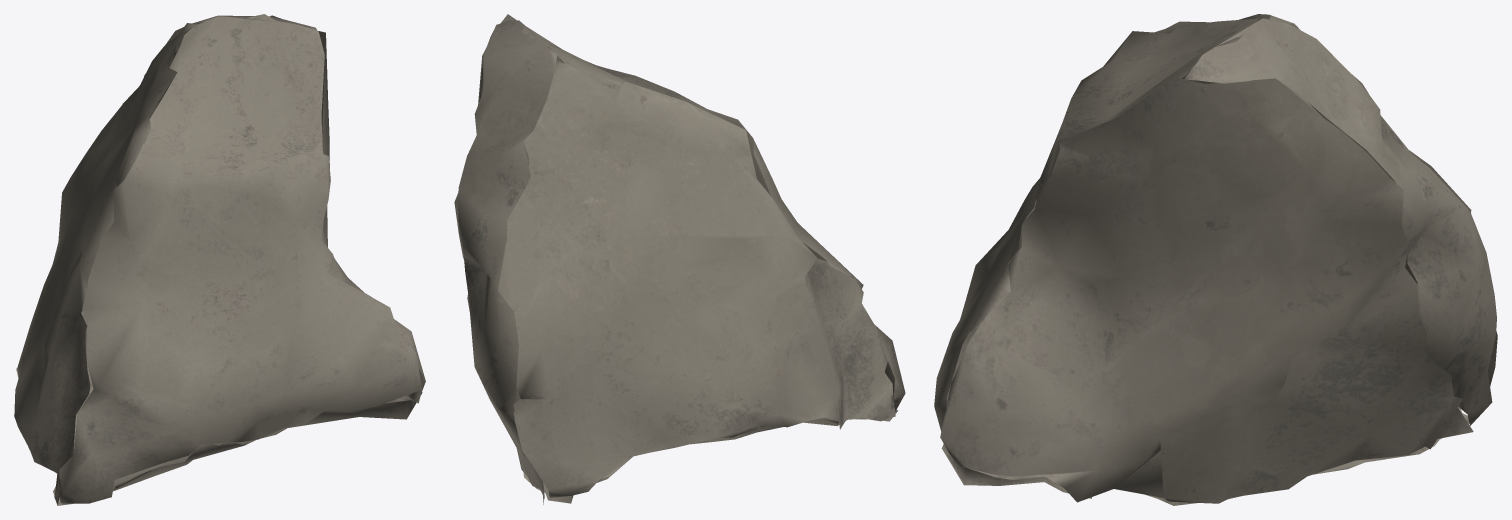
Rendered from ph-moon_rock_05.glb.
The picture shows the model from 3 angles, left to right: view 1: azimuth 30°, elevation 25°; view 2: azimuth 150°, elevation 25°; view 3: azimuth 270°, elevation 25°; orthographic projection. The views are drawn at different scales.
Parts seen in each view (by area): view 1: moon_rock_05; view 2: moon_rock_05; view 3: moon_rock_05.
Part boxes in pixels (x1,y1,x2,y2): moon_rock_05: (14, 14, 425, 505); moon_rock_05: (454, 14, 905, 504); moon_rock_05: (934, 14, 1497, 505).
Bounding box in the file's own units: 0.0716 × 0.0735 × 0.0808.
Materials: 1 (1 with a texture image).
